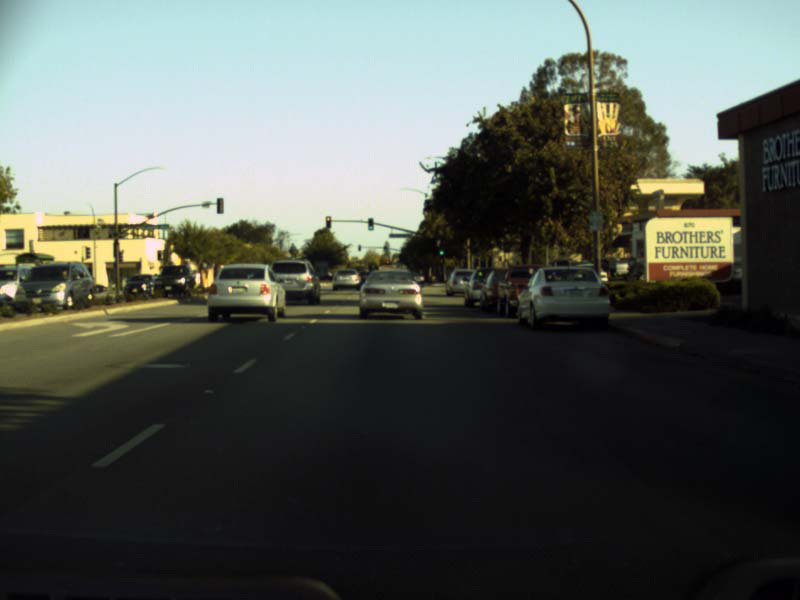Green: (438, 239, 444, 255), (368, 218, 374, 231)
Red: (325, 216, 331, 228)
